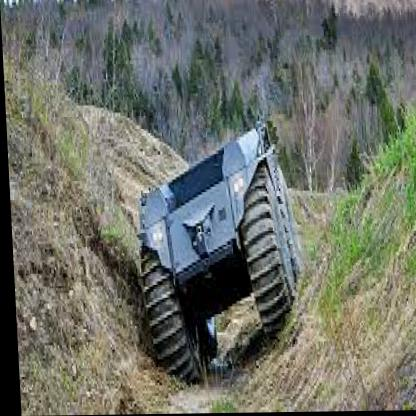UGV: (130, 121, 303, 387)
